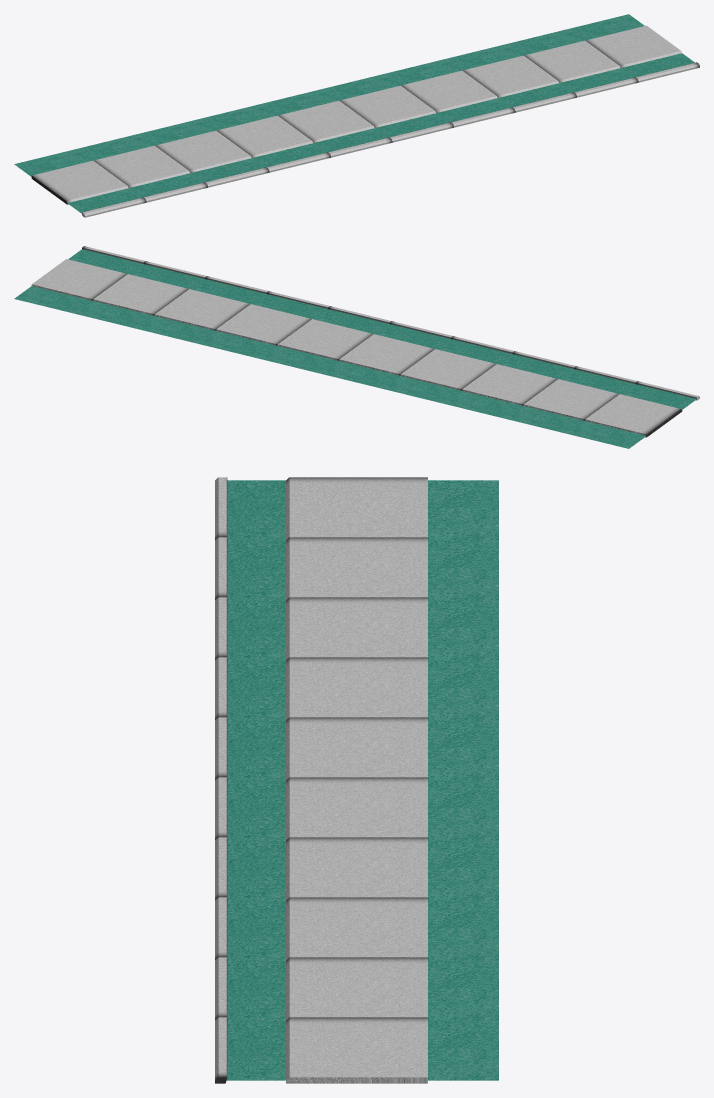
File: sidewalkGrass_10.fbx
The picture shows the model from 3 angles, top to bottom: view 1: azimuth 30°, elevation 25°; view 2: azimuth 150°, elevation 25°; view 3: azimuth 270°, elevation 25°; orthographic projection. The views are drawn at different scales.
Visible parts, largest first — view 1: tileSidewalkGrass; view 2: tileSidewalkGrass; view 3: tileSidewalkGrass.
Part boxes in pixels (box(x1,y1,x2,y2)): tileSidewalkGrass: box(14, 14, 699, 217); tileSidewalkGrass: box(14, 246, 699, 448); tileSidewalkGrass: box(215, 477, 498, 1083).
Bounding box in the file's own units: 4000 × 20 × 800.
Materials: 2 (2 with a texture image).
